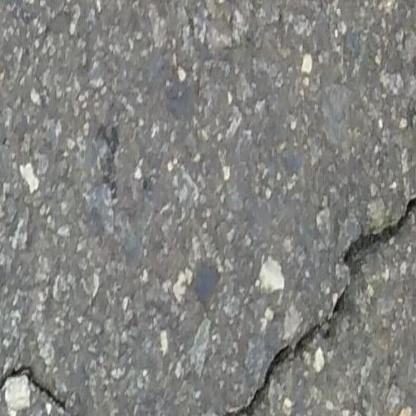Cracks: (199, 147, 416, 416), (0, 365, 117, 416)
